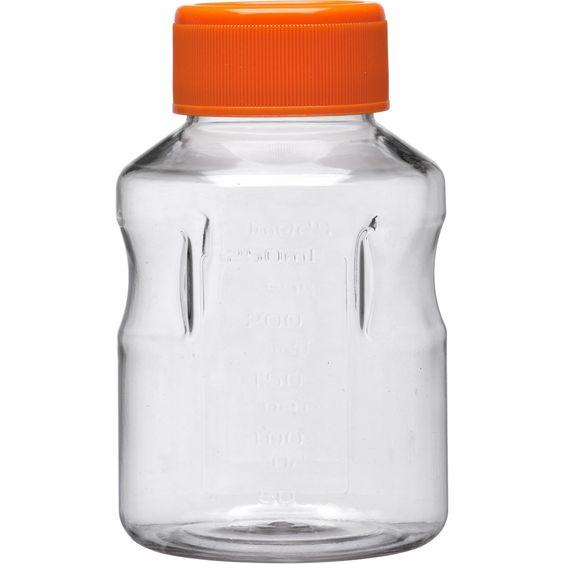HDPE: (115, 0, 441, 127)
